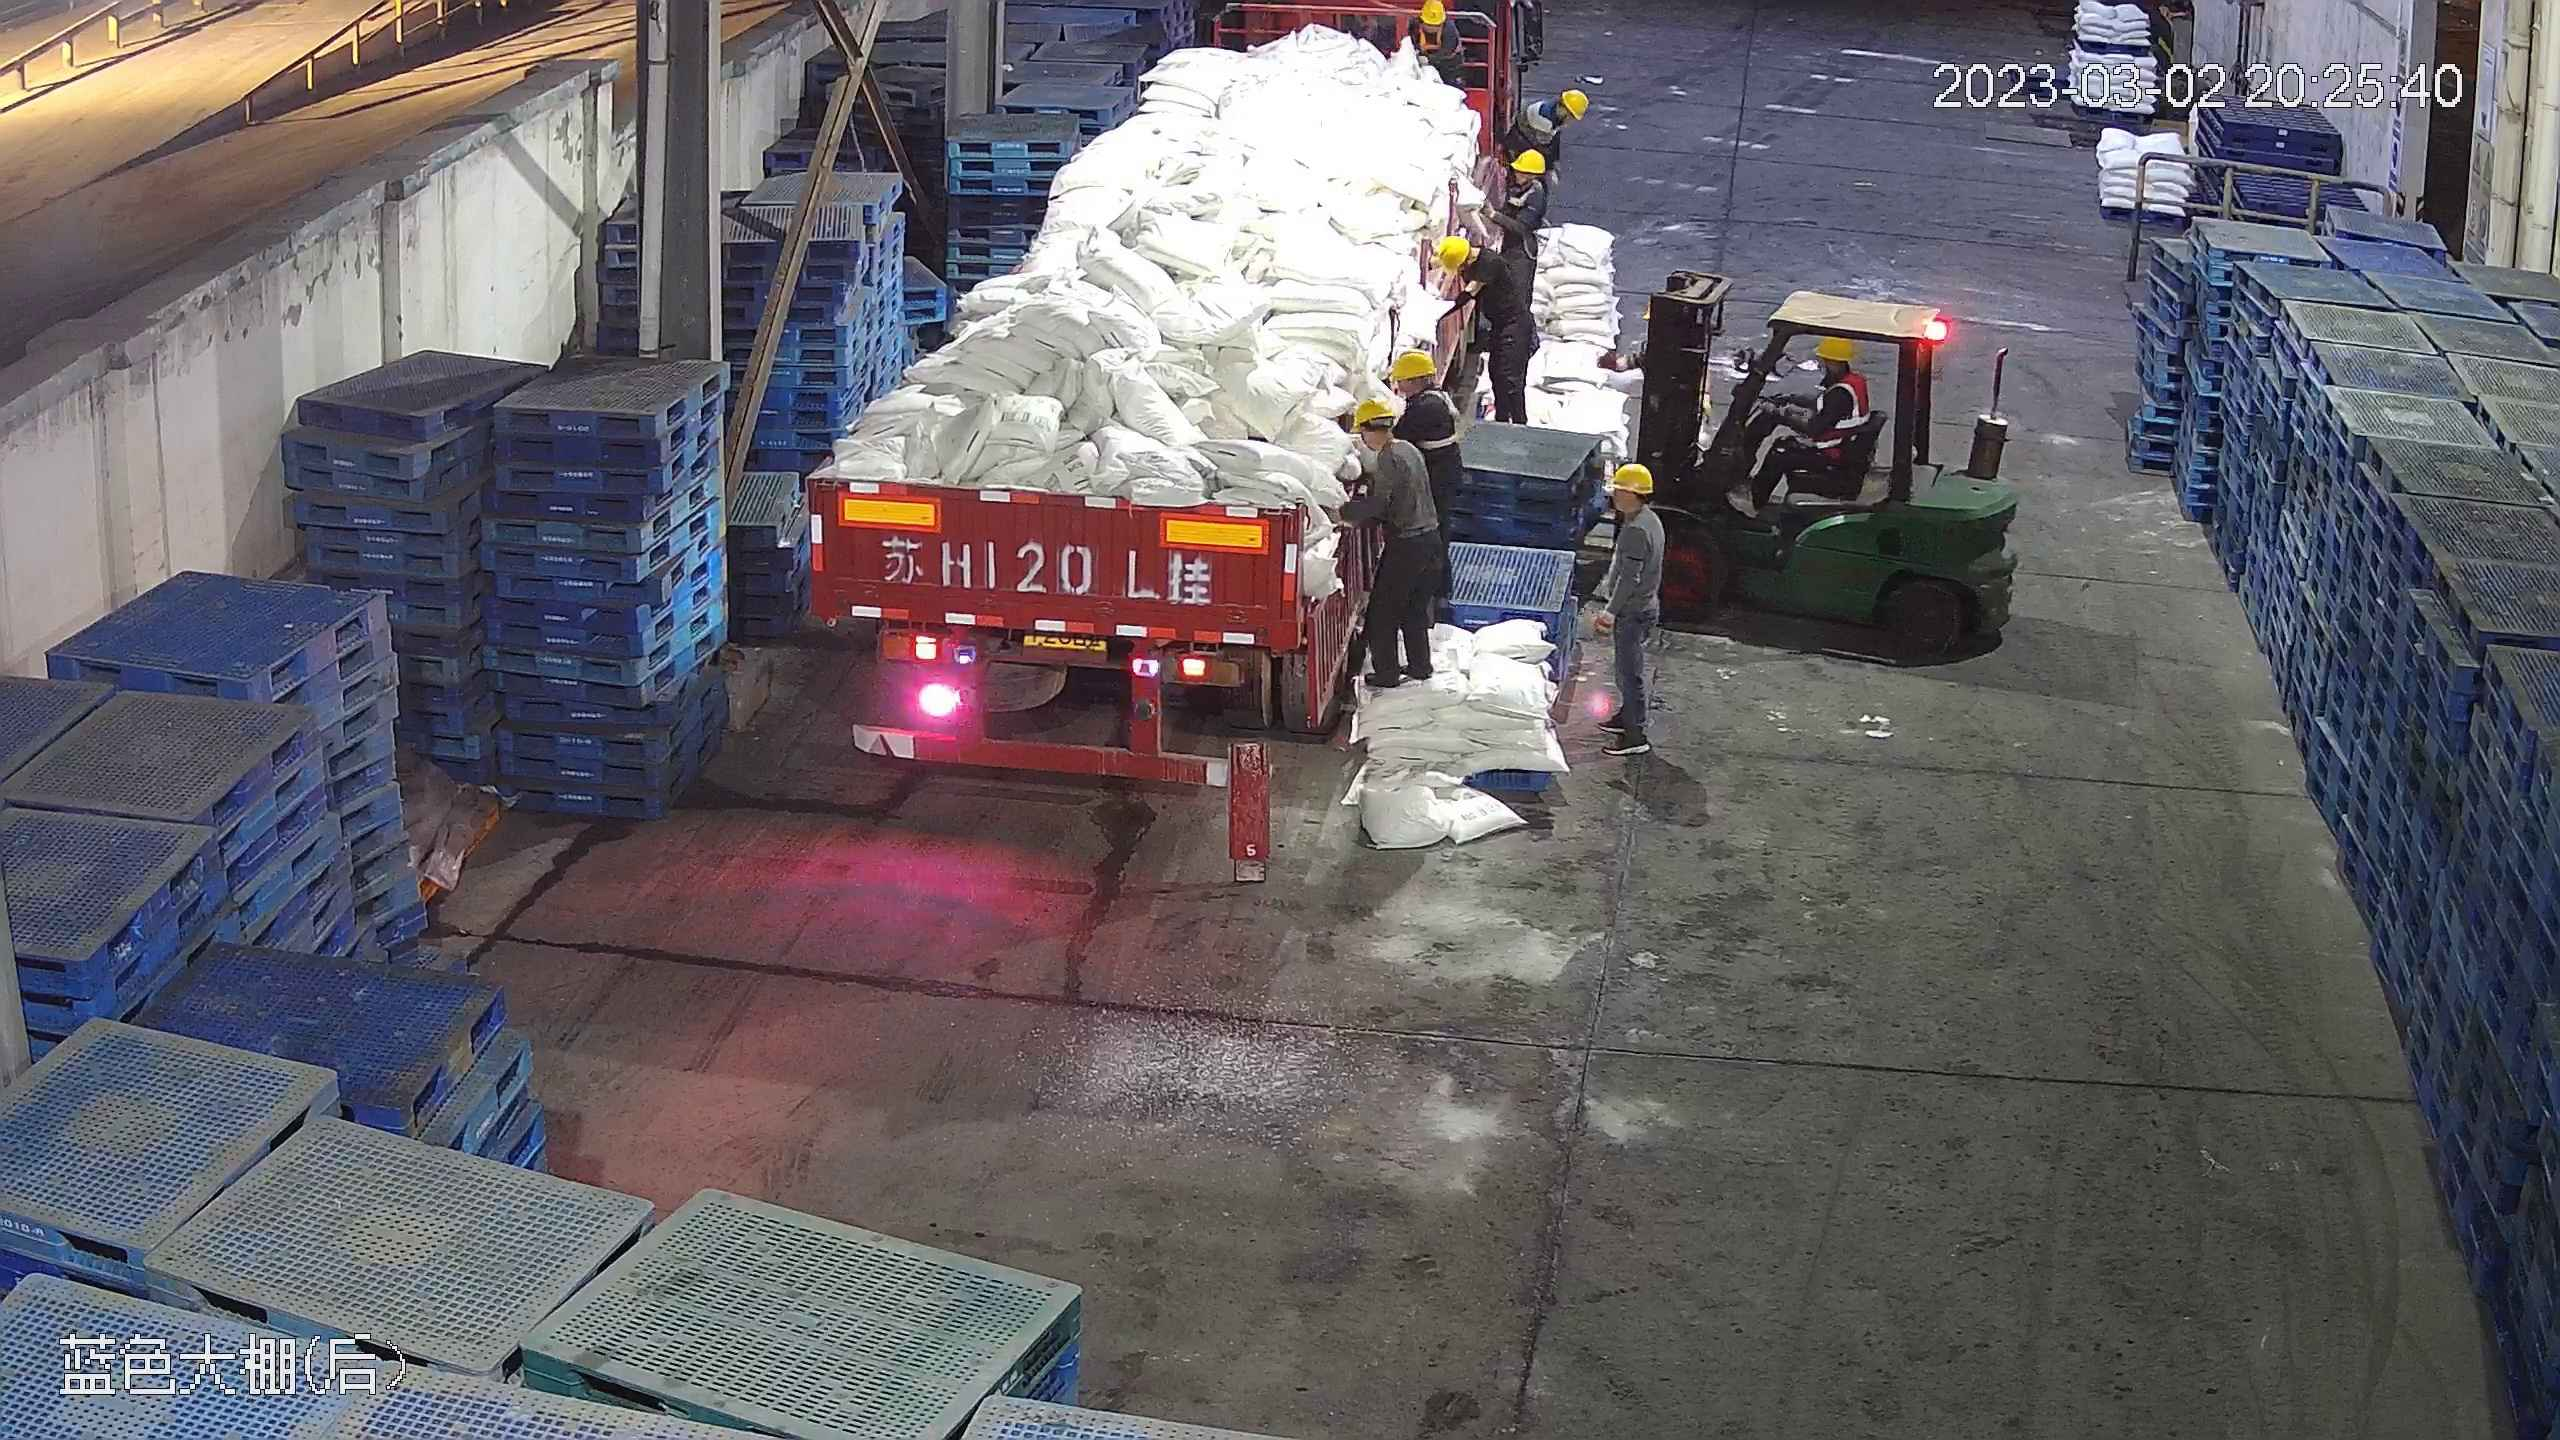belt: (1360, 439, 1431, 515), (1414, 381, 1472, 451), (1487, 173, 1542, 247), (1418, 19, 1462, 59)
head: (1341, 393, 1427, 492), (1581, 459, 1659, 552), (1377, 350, 1457, 438), (1804, 333, 1869, 416), (1431, 230, 1507, 300), (1496, 148, 1553, 207), (1534, 89, 1590, 144), (1413, 1, 1464, 51)
helmet: (1344, 393, 1398, 433), (1388, 345, 1439, 383), (1606, 459, 1655, 493), (1433, 231, 1473, 269), (1811, 333, 1855, 360), (1512, 148, 1546, 175), (1557, 88, 1586, 118), (1417, 1, 1447, 27)
people: (1333, 384, 1445, 713), (1573, 459, 1669, 753), (1741, 333, 1871, 516), (1431, 224, 1531, 413), (1471, 132, 1547, 375)
truck: (798, 7, 1481, 790)
